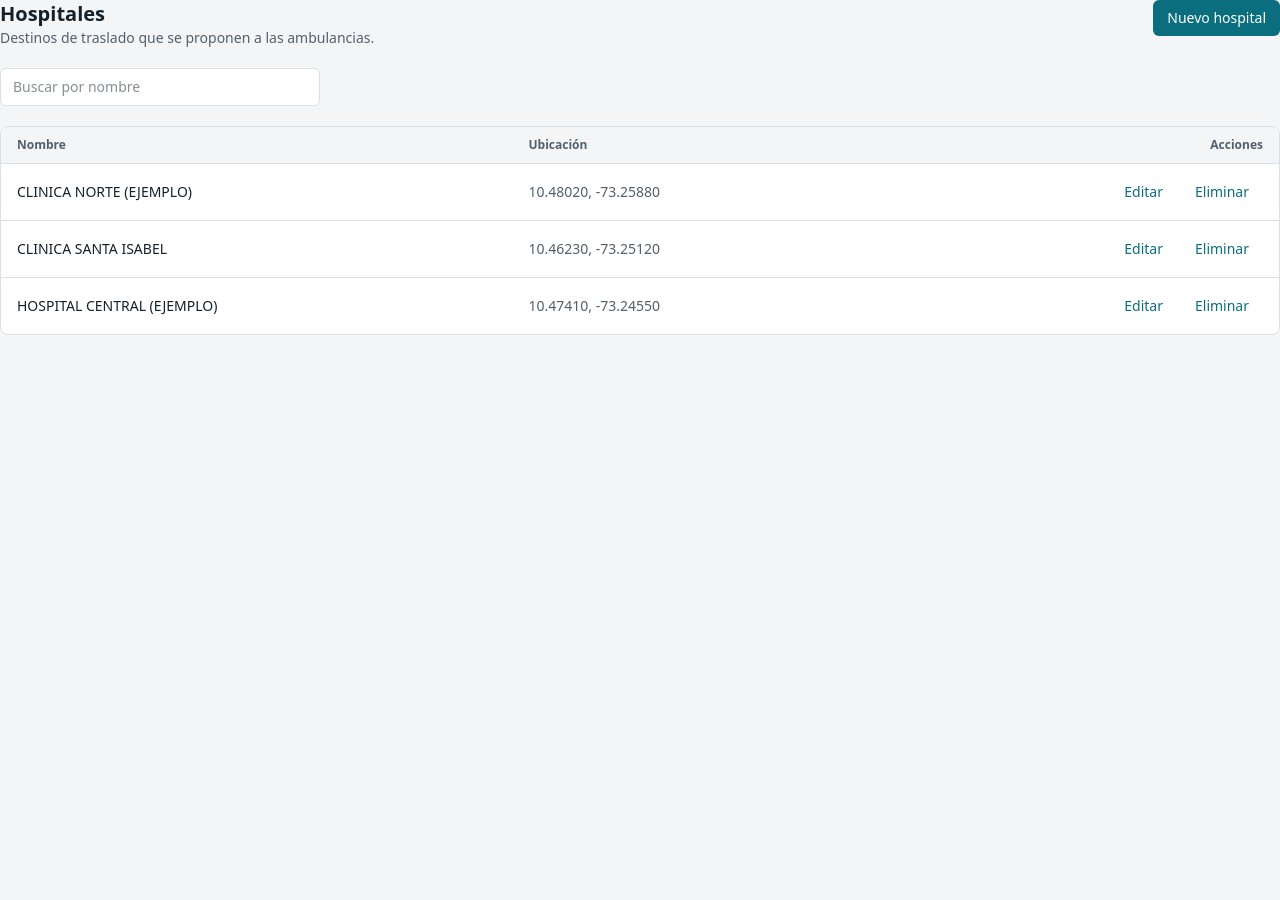
Test case: HospitalsPage › edita un hospital con el formulario prellenado
The image size is (1280, 900).
Step 1. Click the button with aria-label "Editar CLINICA SANTA ISABEL" → coordinates (1144, 249), box left=1110, top=231, right=1177, bottom=267
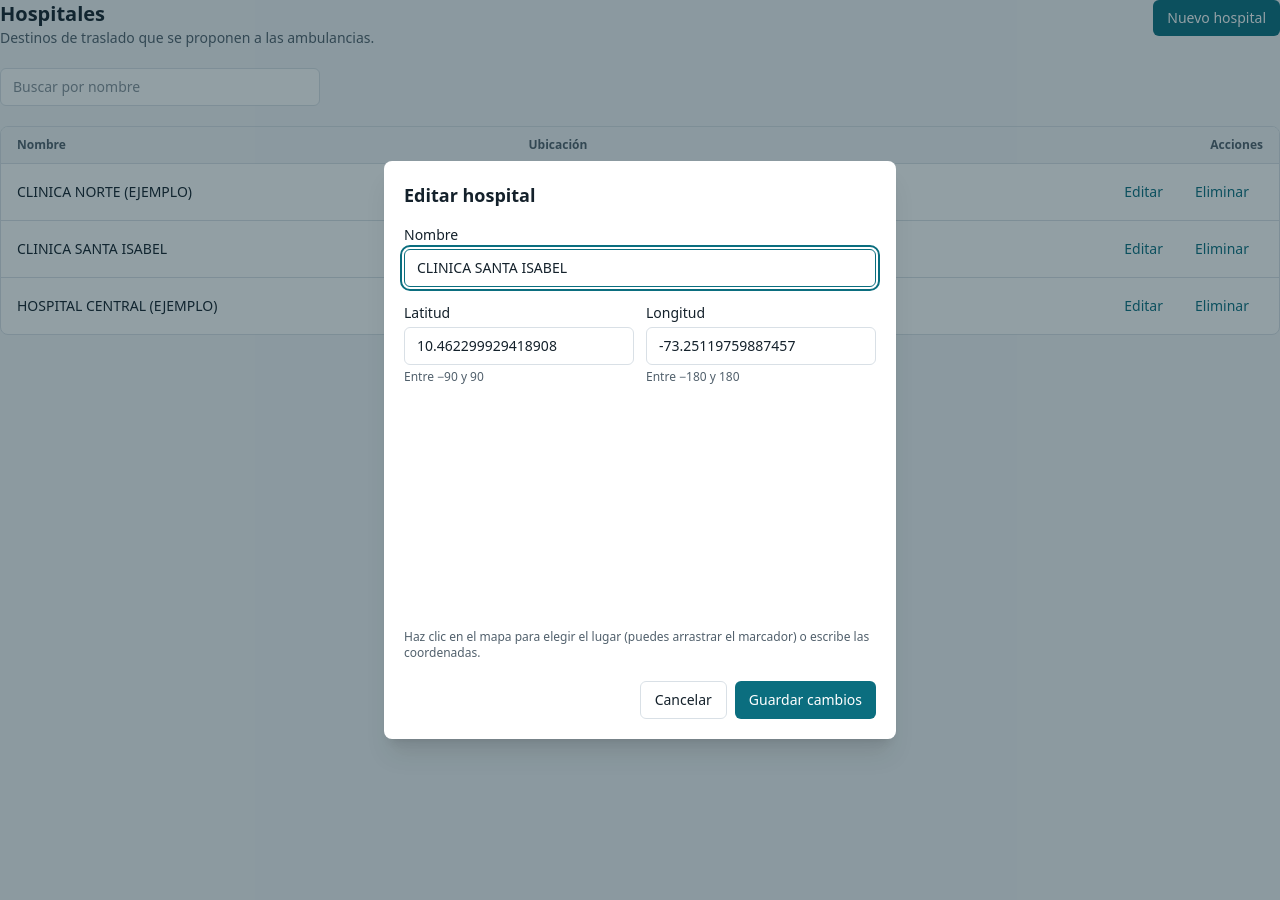
Check: the field labelled "Nombre" holds "CLINICA SANTA ISABEL"
Check: the number field labelled "Latitud" holds "10.462299929418908", box left=404, top=327, right=634, bottom=365
Step 2. Replace the text in the field labelled "Nombre" with "CLINICA SANTA ISABEL II" → coordinates (640, 268), box left=404, top=249, right=876, bottom=287
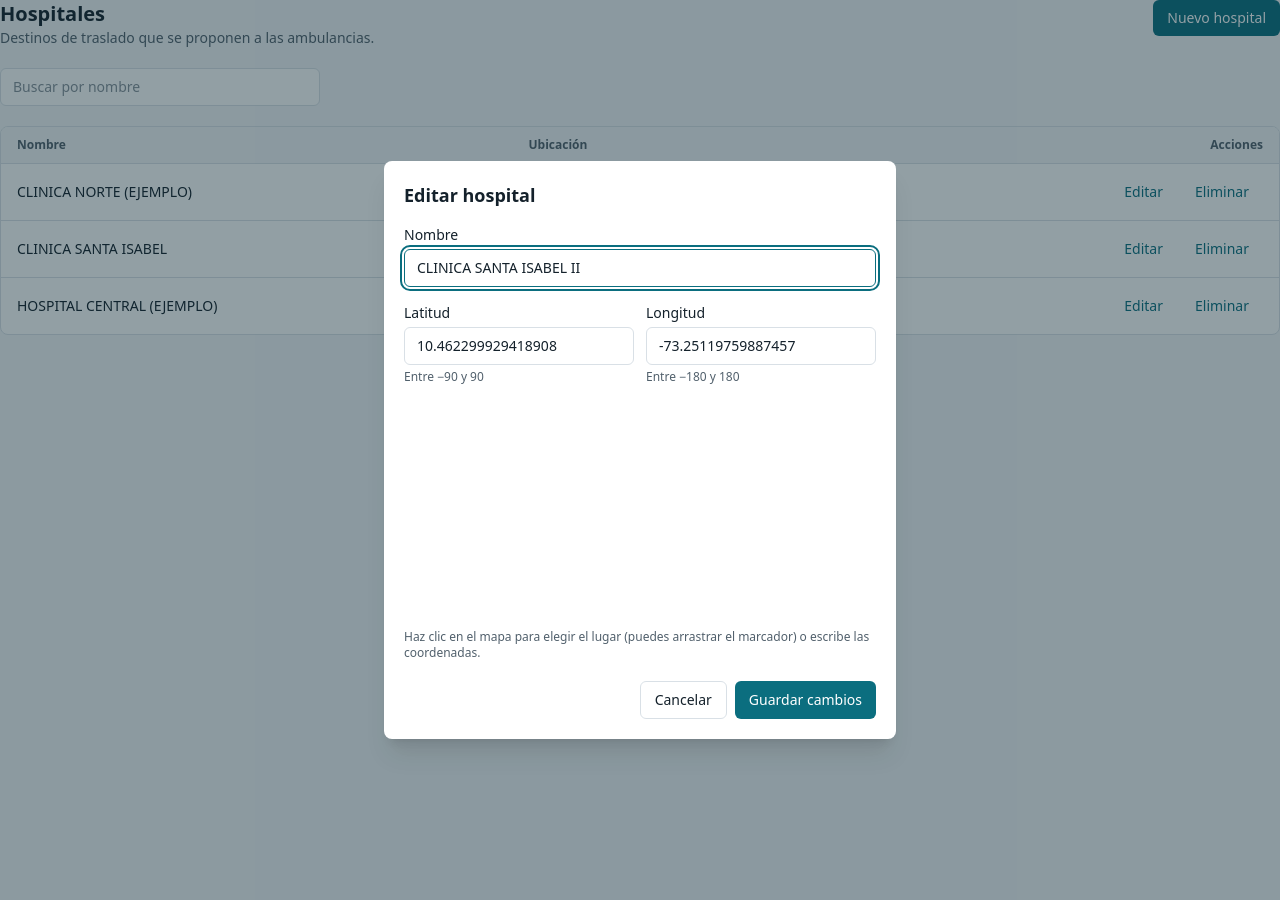
Step 3. Click the button "Guardar cambios" → coordinates (805, 700), box left=735, top=681, right=876, bottom=719
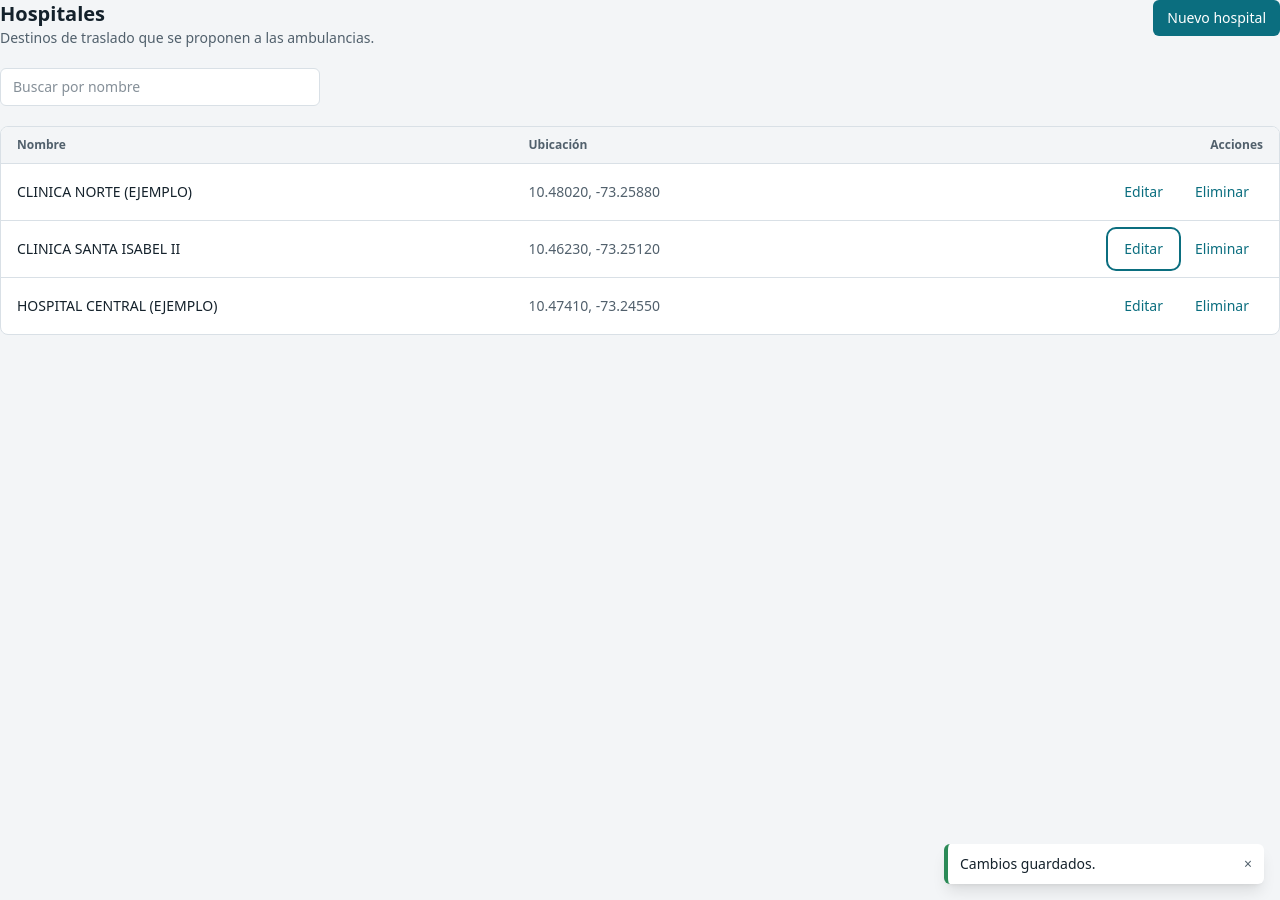
Check: the text "Cambios guardados." is shown, box left=960, top=854, right=1096, bottom=874
Check: the text "CLINICA SANTA ISABEL II" is shown, box left=17, top=239, right=180, bottom=258
